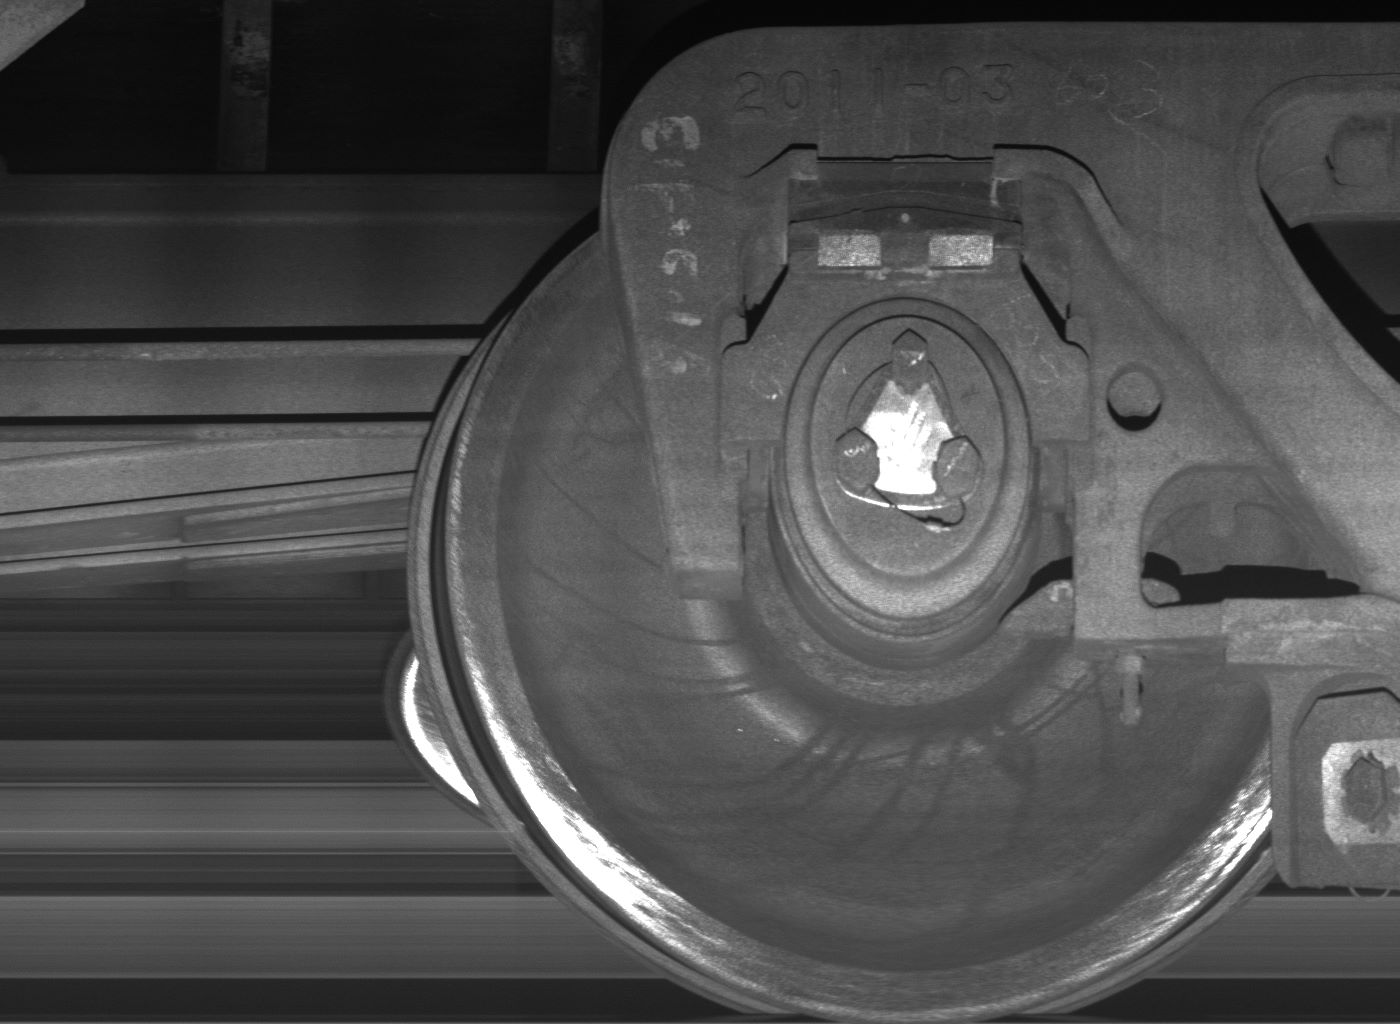normal: (1268, 673, 1400, 884)
